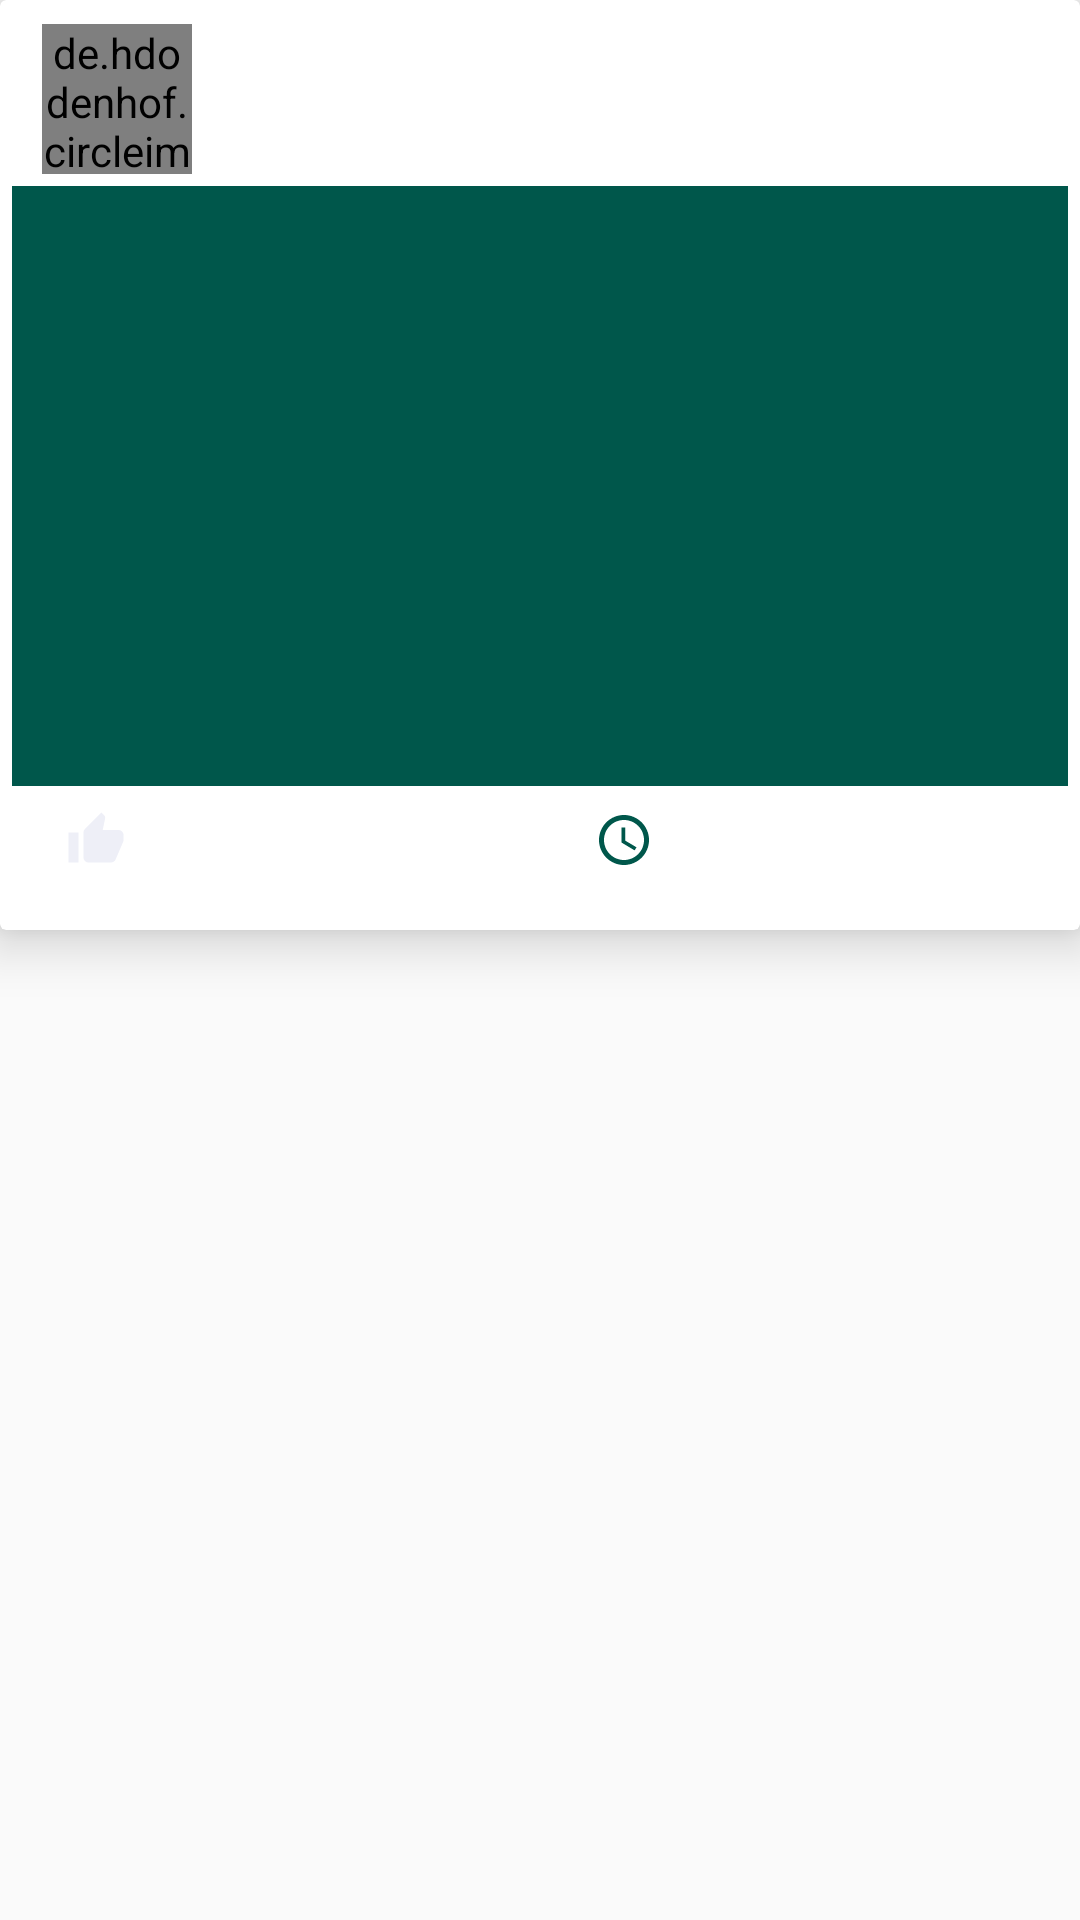

Icon click points for this 1080*1920 phone screenshot, format (x=x, y=y):
access time: (x=624, y=840)
